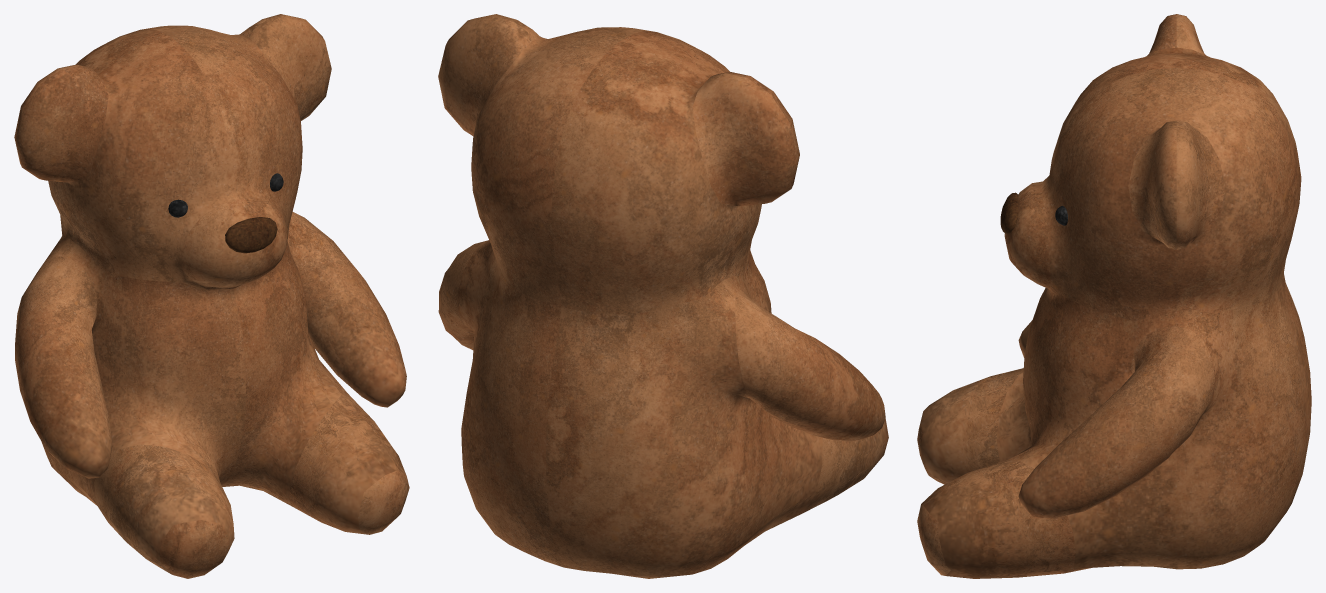
The model's file is Brown Bear.fbx.
3 views of the same model, side by side, from view 1: azimuth 30°, elevation 25°; view 2: azimuth 150°, elevation 25°; view 3: azimuth 270°, elevation 25° (orthographic). The views are drawn at different scales.
Visible parts, largest first — view 1: Cube.002; view 2: Cube.002; view 3: Cube.002.
Boxes of the visible parts, left/top/right/bottom form: Cube.002: left=14, top=14, right=409, bottom=578; Cube.002: left=438, top=14, right=888, bottom=578; Cube.002: left=917, top=14, right=1311, bottom=578.
Bounding box in the file's own units: 56.08 × 66.13 × 51.21.
Materials: 1 (1 with a texture image).
